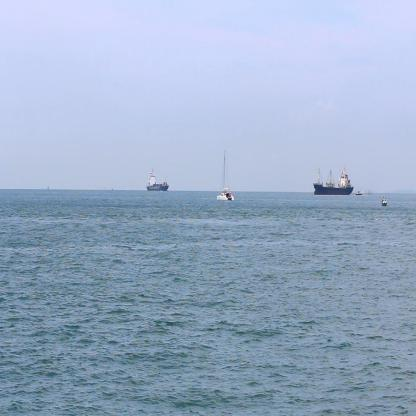Container Ship: (313, 168, 354, 196), (146, 168, 170, 192)
